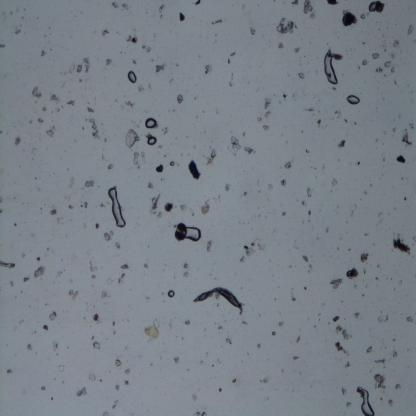Air bubble: (108, 187, 127, 228), (356, 386, 375, 415), (186, 226, 201, 242), (144, 116, 158, 130), (345, 94, 361, 106), (127, 70, 138, 83), (147, 135, 158, 146), (167, 289, 176, 298), (169, 160, 176, 167)
Background material: (236, 238, 266, 262), (255, 96, 275, 132), (322, 49, 339, 85), (142, 314, 160, 342), (389, 236, 411, 257), (224, 132, 242, 157), (275, 18, 300, 34), (122, 129, 142, 147), (341, 9, 359, 29), (372, 370, 388, 392), (149, 194, 163, 217), (375, 61, 396, 75), (87, 119, 101, 140), (302, 0, 316, 21), (76, 57, 91, 76), (174, 222, 187, 243), (334, 324, 349, 341), (369, 0, 387, 14), (345, 266, 361, 281), (400, 309, 415, 325), (112, 0, 129, 14), (334, 340, 348, 356), (198, 200, 212, 216), (302, 256, 313, 275), (401, 130, 414, 146), (205, 147, 216, 165), (82, 177, 96, 191), (329, 276, 343, 290), (33, 264, 46, 279), (49, 92, 62, 105), (359, 250, 371, 264), (75, 385, 87, 399), (373, 356, 387, 368), (26, 147, 38, 161), (154, 61, 168, 73), (31, 85, 42, 100), (181, 260, 190, 278), (325, 0, 341, 10), (244, 144, 256, 157), (123, 98, 136, 110), (377, 312, 389, 325), (87, 258, 98, 272), (204, 237, 213, 254), (360, 54, 370, 69), (90, 337, 102, 349), (104, 229, 115, 242), (154, 162, 165, 175), (66, 288, 80, 298), (133, 149, 140, 168), (45, 126, 55, 139), (406, 23, 416, 36), (68, 174, 76, 190), (125, 34, 139, 43), (68, 61, 77, 75), (86, 104, 96, 116), (302, 106, 317, 114), (105, 277, 115, 289), (104, 56, 114, 68), (51, 339, 60, 352), (13, 135, 22, 148), (140, 44, 153, 53), (305, 184, 313, 198), (210, 18, 224, 26), (228, 70, 235, 86), (370, 52, 381, 62), (226, 53, 236, 64), (279, 177, 289, 188), (395, 152, 406, 162), (99, 290, 109, 301), (165, 203, 176, 213), (48, 311, 57, 323), (88, 372, 97, 384), (140, 148, 147, 163), (290, 288, 297, 303), (176, 92, 184, 105), (258, 376, 268, 386), (101, 28, 111, 38), (330, 177, 339, 188), (0, 9, 7, 23), (92, 312, 100, 324), (334, 108, 342, 120), (315, 118, 323, 130), (256, 339, 263, 352), (178, 10, 185, 23), (158, 3, 167, 13), (337, 139, 347, 148), (13, 26, 22, 36), (112, 380, 120, 391), (190, 391, 198, 402), (118, 273, 125, 285), (293, 43, 300, 55), (283, 162, 292, 171), (298, 72, 307, 81), (248, 28, 257, 37), (203, 66, 213, 74), (58, 268, 66, 278), (66, 100, 76, 108), (394, 382, 402, 392), (365, 344, 373, 354), (280, 91, 288, 101), (146, 180, 154, 190), (36, 114, 44, 124), (224, 336, 232, 346), (17, 317, 24, 328), (137, 84, 144, 95), (112, 399, 119, 410), (40, 47, 46, 59), (66, 202, 75, 210), (180, 203, 188, 212), (159, 126, 168, 134), (278, 319, 286, 328), (120, 262, 129, 270), (25, 344, 34, 352), (332, 314, 341, 322), (34, 255, 42, 264), (107, 162, 115, 171), (124, 366, 131, 376), (50, 206, 57, 216), (115, 358, 122, 368), (115, 240, 121, 251), (196, 409, 207, 415), (224, 183, 230, 194), (5, 368, 13, 376), (22, 274, 30, 282), (42, 324, 50, 332), (306, 208, 312, 218), (304, 145, 310, 155), (392, 350, 398, 360), (238, 318, 248, 324), (341, 388, 348, 396), (173, 356, 180, 364), (0, 42, 7, 50), (40, 384, 47, 392), (202, 350, 209, 358), (184, 318, 191, 326), (344, 360, 350, 369), (281, 208, 287, 217), (231, 376, 237, 385), (8, 280, 14, 289), (345, 401, 354, 407), (388, 398, 394, 407), (124, 343, 129, 353), (101, 409, 108, 416), (276, 43, 284, 49), (98, 202, 104, 210), (217, 323, 225, 329), (356, 157, 362, 165), (83, 201, 89, 209), (123, 378, 129, 386), (300, 200, 307, 206), (94, 223, 100, 230), (326, 224, 330, 234), (194, 0, 202, 5), (271, 330, 276, 338), (374, 274, 379, 282), (292, 355, 300, 360), (142, 262, 148, 268), (111, 320, 117, 326), (41, 106, 47, 112), (332, 86, 338, 92), (78, 76, 84, 82), (110, 330, 115, 337), (92, 273, 97, 280), (245, 350, 250, 357), (355, 310, 359, 318), (158, 350, 162, 358), (50, 394, 54, 402), (0, 196, 4, 204), (280, 367, 286, 372), (218, 388, 223, 394), (199, 358, 204, 364), (345, 119, 350, 125), (0, 207, 4, 214), (296, 336, 300, 343), (353, 285, 358, 290), (13, 222, 18, 227), (361, 292, 365, 298), (22, 252, 25, 260), (364, 266, 367, 274), (99, 378, 103, 384), (211, 362, 215, 368), (133, 57, 136, 64), (304, 285, 307, 292), (33, 176, 37, 181), (314, 323, 318, 328), (376, 264, 380, 269), (327, 320, 330, 326), (106, 136, 108, 144), (46, 247, 51, 250), (337, 245, 340, 250), (348, 247, 351, 251)
Cellulose filter fibre: (193, 287, 243, 315), (0, 258, 16, 269)
Fragment: (188, 160, 201, 180)
